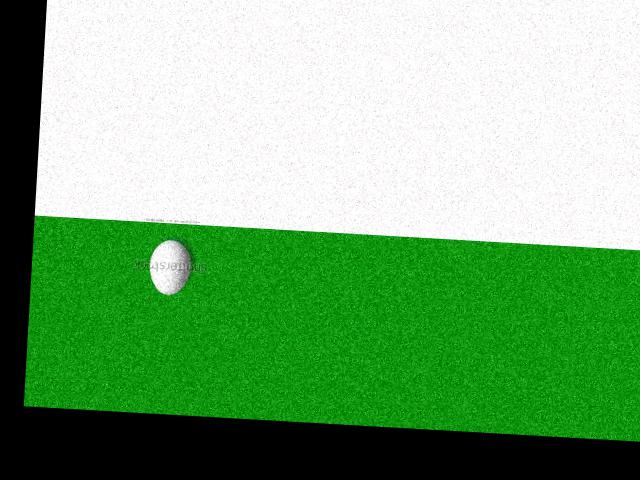egg: (148, 239, 192, 295)
